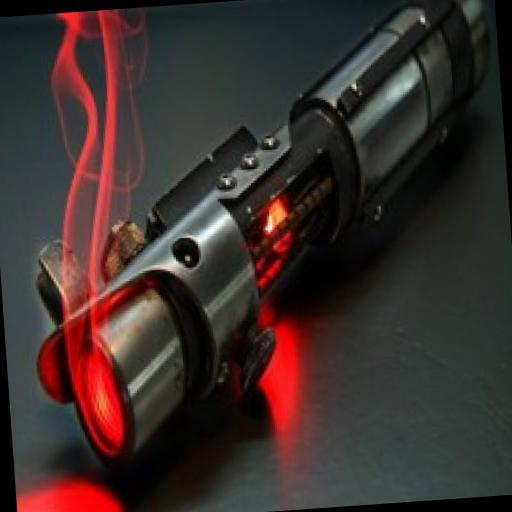sith saber: (10, 0, 512, 466)
